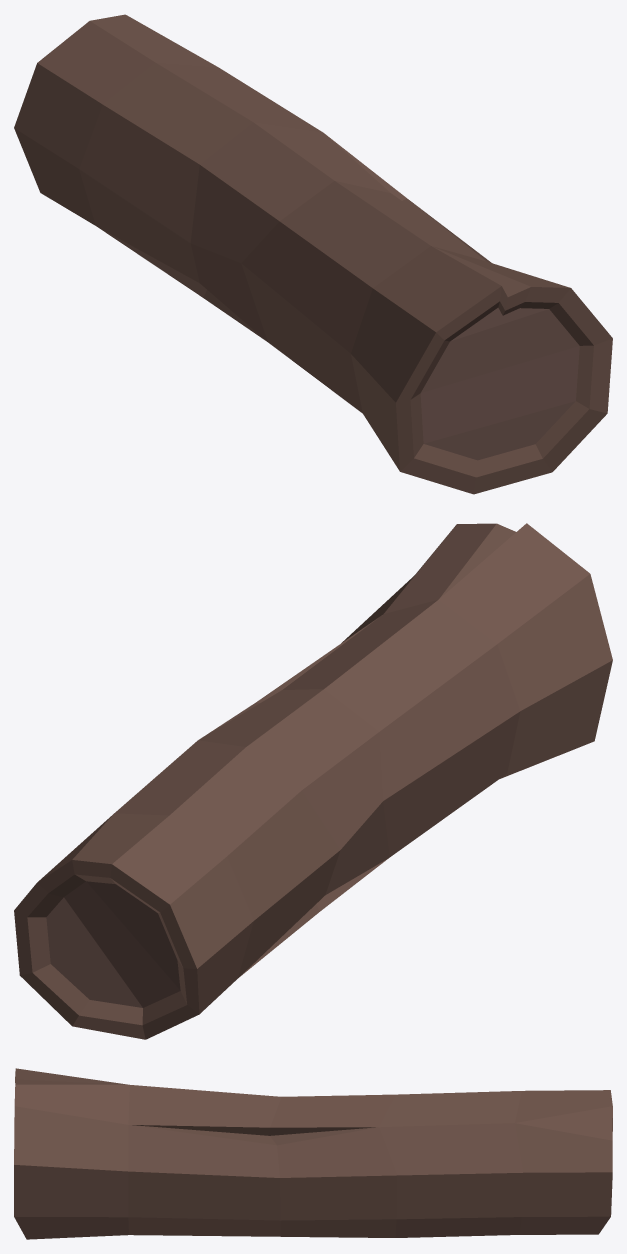
Rendered from log.fbx.
The picture shows the model from 3 angles, top to bottom: view 1: azimuth 30°, elevation 25°; view 2: azimuth 150°, elevation 25°; view 3: azimuth 270°, elevation 25°; orthographic projection. The views are drawn at different scales.
Parts seen in each view (by area): view 1: WoodLog, WoodLog.001; view 2: WoodLog, WoodLog.001; view 3: WoodLog.
Boxes of the visible parts, box(x1,y1,x2,y2) form: WoodLog: box(14, 14, 612, 494); WoodLog.001: box(420, 308, 579, 460); WoodLog: box(14, 523, 612, 1039); WoodLog.001: box(46, 881, 180, 1007); WoodLog: box(14, 1068, 612, 1239).
Bounding box in the file's own units: 108 × 109 × 376.
